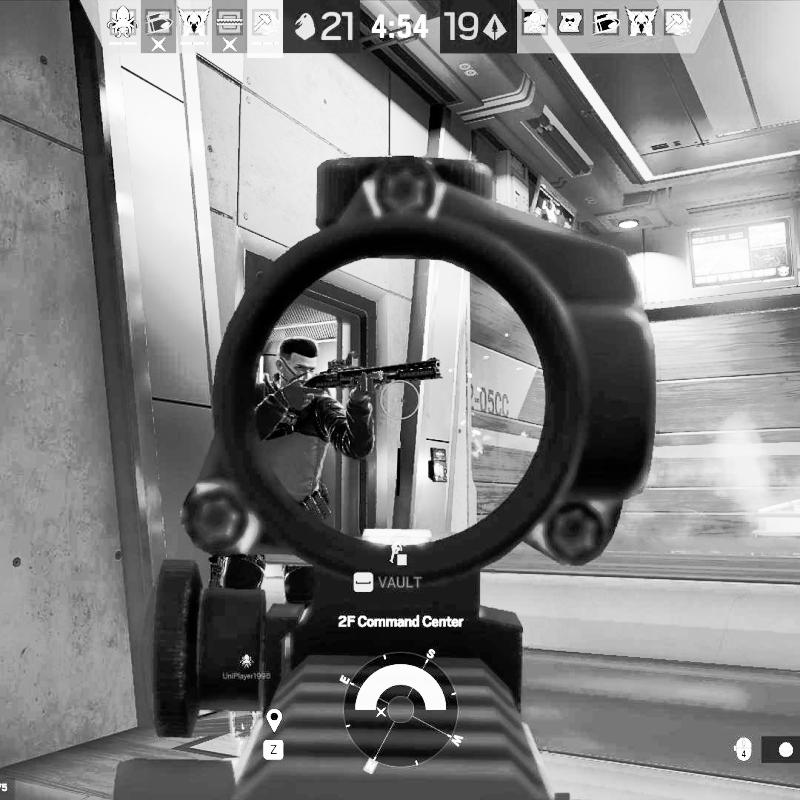Character: (257, 323, 452, 532)
Head: (272, 332, 322, 390)
